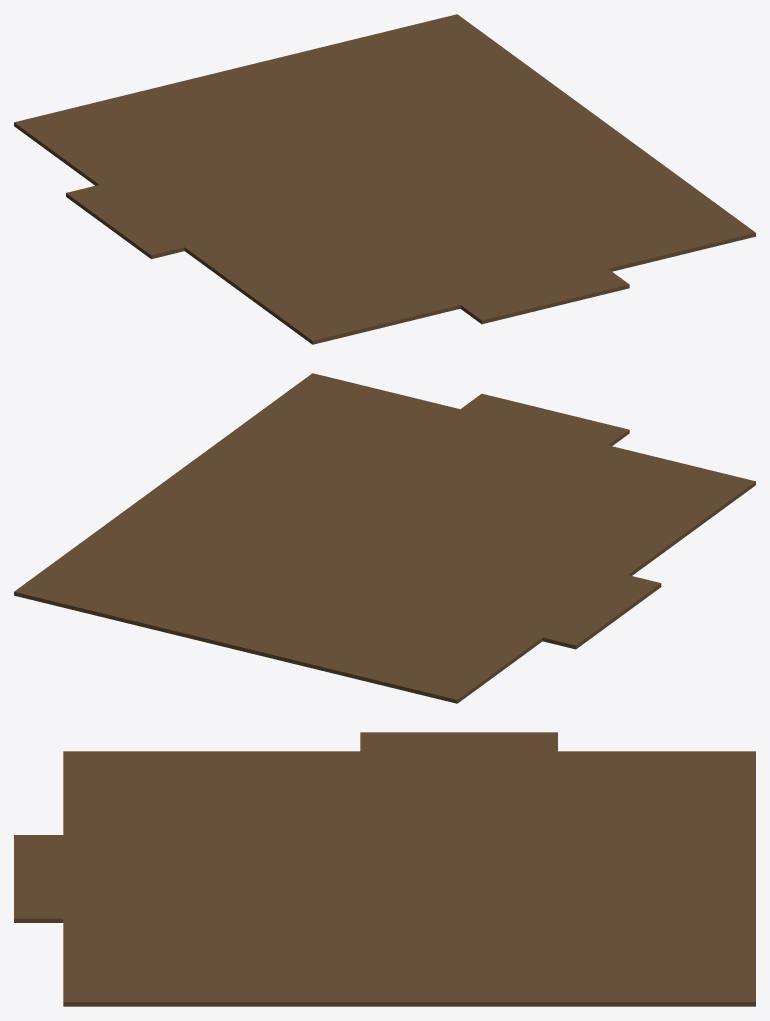
The model's file is Floor.fbx.
The picture shows the model from 3 angles, top to bottom: view 1: azimuth 30°, elevation 25°; view 2: azimuth 150°, elevation 25°; view 3: azimuth 270°, elevation 25°; orthographic projection. The views are drawn at different scales.
Visible parts, largest first — view 1: Floor; view 2: Floor; view 3: Floor.
Part boxes in pixels (bbox=[...]): Floor: bbox=[14, 14, 755, 344]; Floor: bbox=[14, 373, 755, 703]; Floor: bbox=[14, 732, 755, 1006].
Bounding box in the file's own units: 1290 × 10 × 1500.
